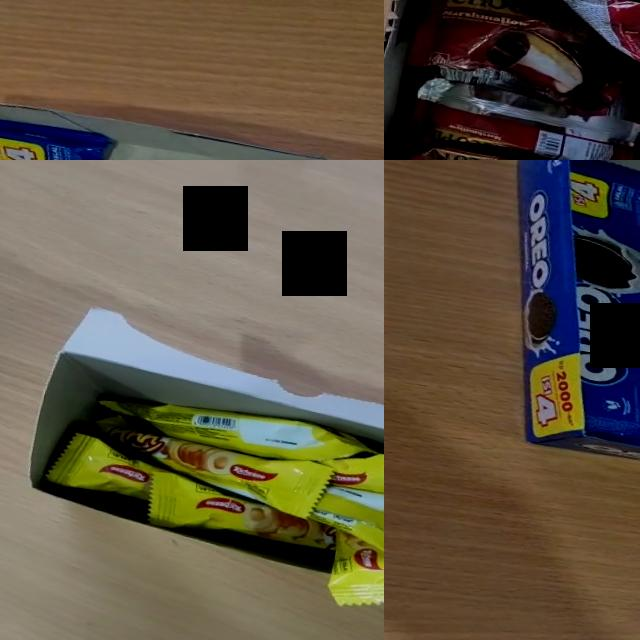Ahh: (76, 408, 336, 522), (93, 382, 383, 479), (142, 470, 343, 560), (43, 428, 178, 508), (302, 478, 384, 558), (321, 528, 384, 626), (311, 439, 384, 513)
Chocopie: (407, 0, 628, 113), (410, 93, 638, 160), (562, 0, 640, 62), (439, 65, 530, 95)
Oreo: (517, 160, 640, 455)
